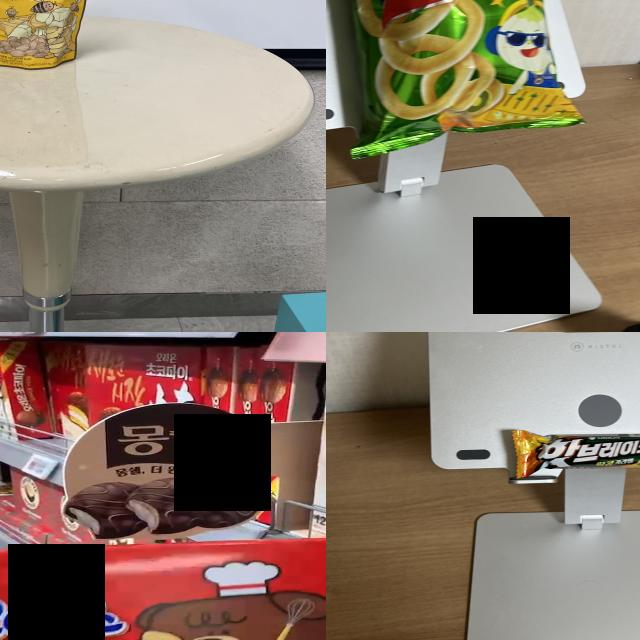honeyAmond: (0, 0, 86, 57)
hotBreak: (513, 434, 640, 473)
ohYes: (0, 536, 326, 640)
onionRing: (330, 0, 542, 111)
